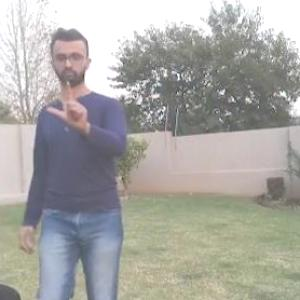land_hand: (48, 72, 90, 126)
